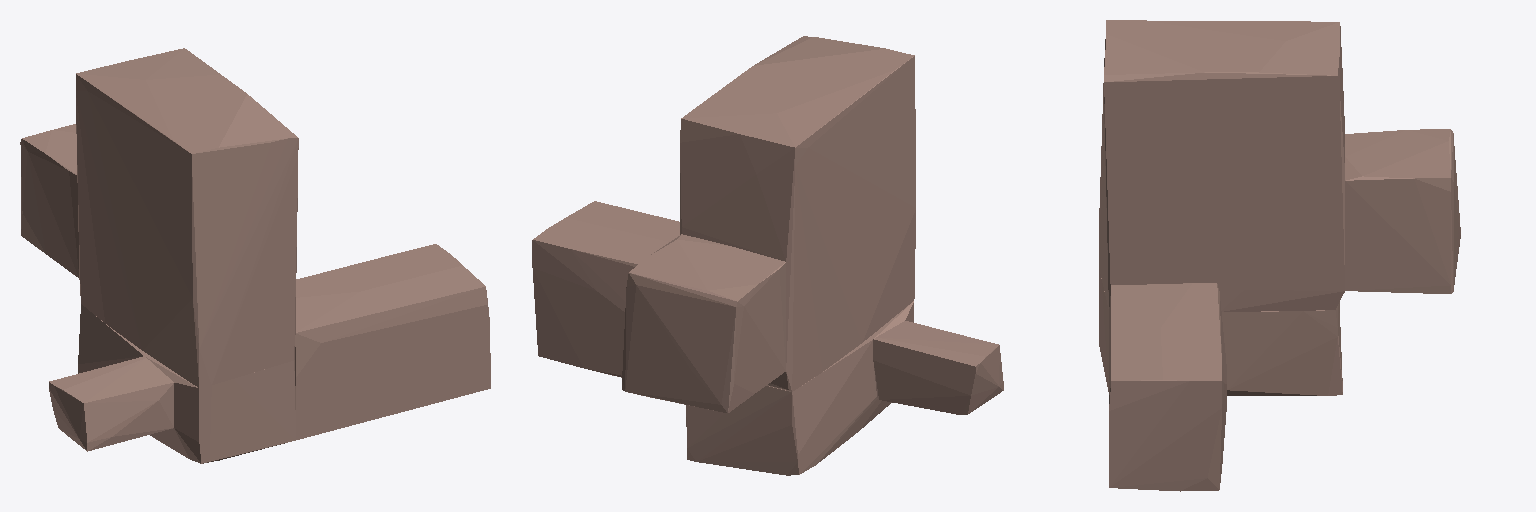
URDF robot description (blob628):
<robot name="blob628">
  <link name="random_obj_628">
    <contact>
      <lateral_friction value="1.0"/>
      <rolling_friction value="0.0"/>
      <inertia_scaling value="3.0"/>
      <contact_cfm value="0.0"/>
      <contact_erp value="1.0"/>
    </contact>
    <inertial>
      <origin rpy="0 0 0" xyz="0 0 0"/>
      <mass value="0.1"/>
      <inertia ixx="1" ixy="0" ixz="0" iyy="1" iyz="0" izz="0"/>
    </inertial>
    <visual>
      <origin rpy="0 0 0" xyz="0 0 0"/>
      <geometry>
        <mesh filename="628.obj" scale="0.015 0.015 0.015"/>
      </geometry>
      <material name="blockmat">
        <color rgba="0.68 0.57 0.53 1"/>
      </material>
    </visual>
    <collision>
      <origin rpy="0 0 0" xyz="0 0 0"/>
      <geometry>
        <mesh filename="628.obj" scale="0.015 0.015 0.015"/>
      </geometry>
    </collision>
  </link>
</robot>

--- Render facts (derived) ---
3 views of the same robot in one strip: view 1: azimuth 30°, elevation 25°; view 2: azimuth 150°, elevation 25°; view 3: azimuth 270°, elevation 25° (orthographic).
Robot: blob628 — 1 links, 0 joints (none); root link random_obj_628; default pose: every joint at zero.
Links seen in each view (by area): view 1: random_obj_628; view 2: random_obj_628; view 3: random_obj_628.
Link boxes in pixels (x1=…): random_obj_628: x1=20, y1=48, x2=490, y2=463; random_obj_628: x1=532, y1=36, x2=1003, y2=475; random_obj_628: x1=1099, y1=20, x2=1460, y2=491.
Size in the robot's own frame: 0.1232 by 0.0938 by 0.0932 metres.
Meshes: 1 distinct files referenced, 1 mesh visuals loaded (1 OBJ).